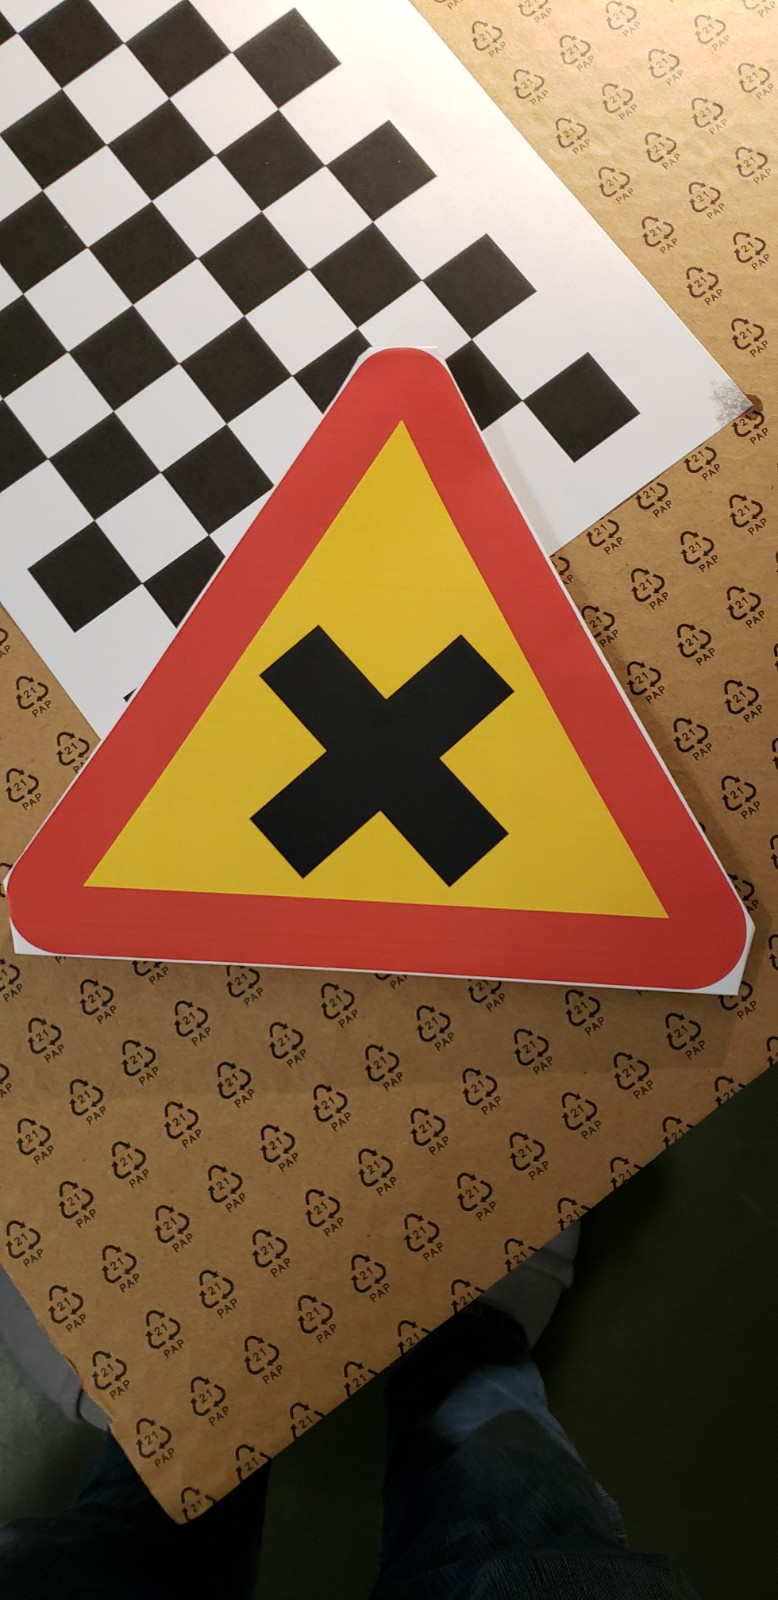junction: (42, 352, 778, 1037)
